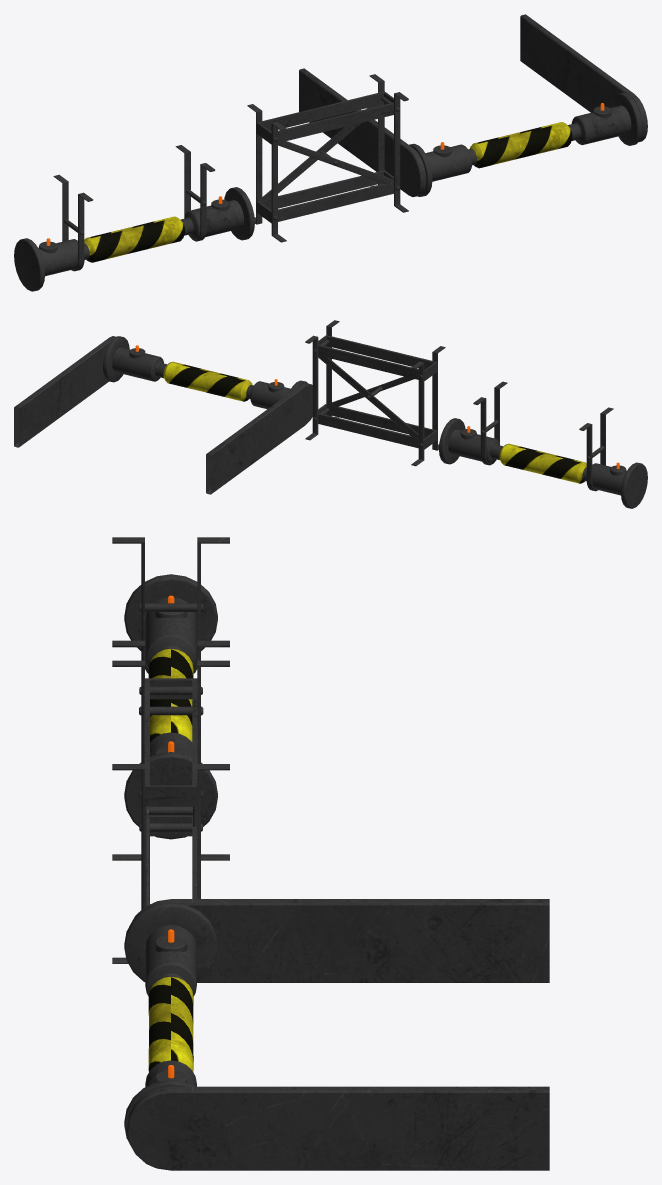
File: grab_handles.glb
3 views of the same model, one above another, from view 1: azimuth 30°, elevation 25°; view 2: azimuth 150°, elevation 25°; view 3: azimuth 270°, elevation 25° (orthographic). The views are drawn at different scales.
Parts seen in each view (by area): view 1: Handle.mo, grapple_pipe_support.mo, grapple_pipe_new.mo; view 2: Handle.mo, grapple_pipe_support.mo, grapple_pipe_new.mo; view 3: Handle.mo, grapple_pipe_new.mo, grapple_pipe_support.mo.
Boxes of the visible parts, box(x1,y1,x2,y2) form: Handle.mo: box(299, 14, 647, 196); grapple_pipe_support.mo: box(247, 74, 408, 242); grapple_pipe_new.mo: box(14, 145, 254, 291); Handle.mo: box(14, 336, 312, 494); grapple_pipe_support.mo: box(305, 320, 445, 466); grapple_pipe_new.mo: box(439, 381, 647, 508); Handle.mo: box(124, 899, 549, 1170); grapple_pipe_new.mo: box(112, 537, 229, 839); grapple_pipe_support.mo: box(112, 660, 229, 963).
Size of the model in its own units: 2.83 by 0.5084 by 1.01.
9 materials, 9 textured.
